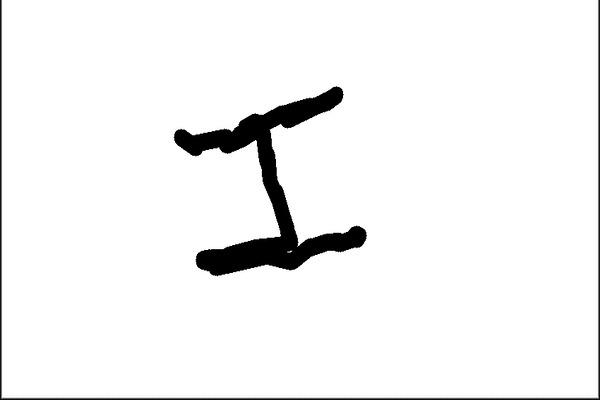i: (166, 79, 384, 285)
